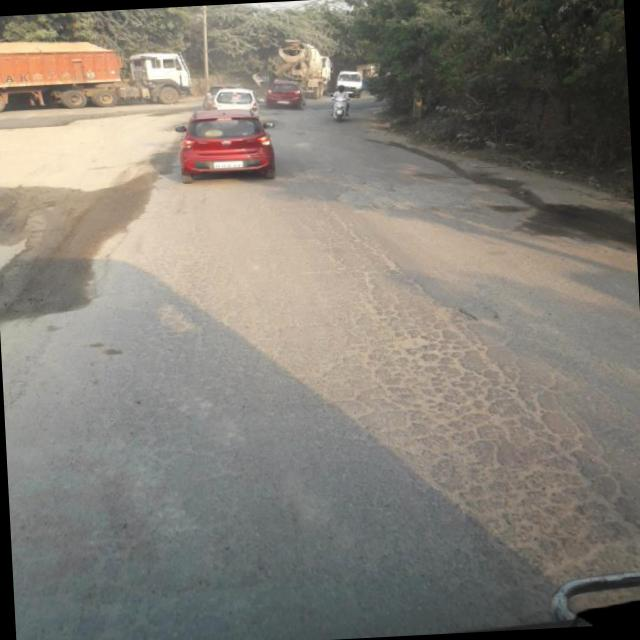crack: (28, 180, 637, 623)
pothole: (339, 211, 488, 369)
